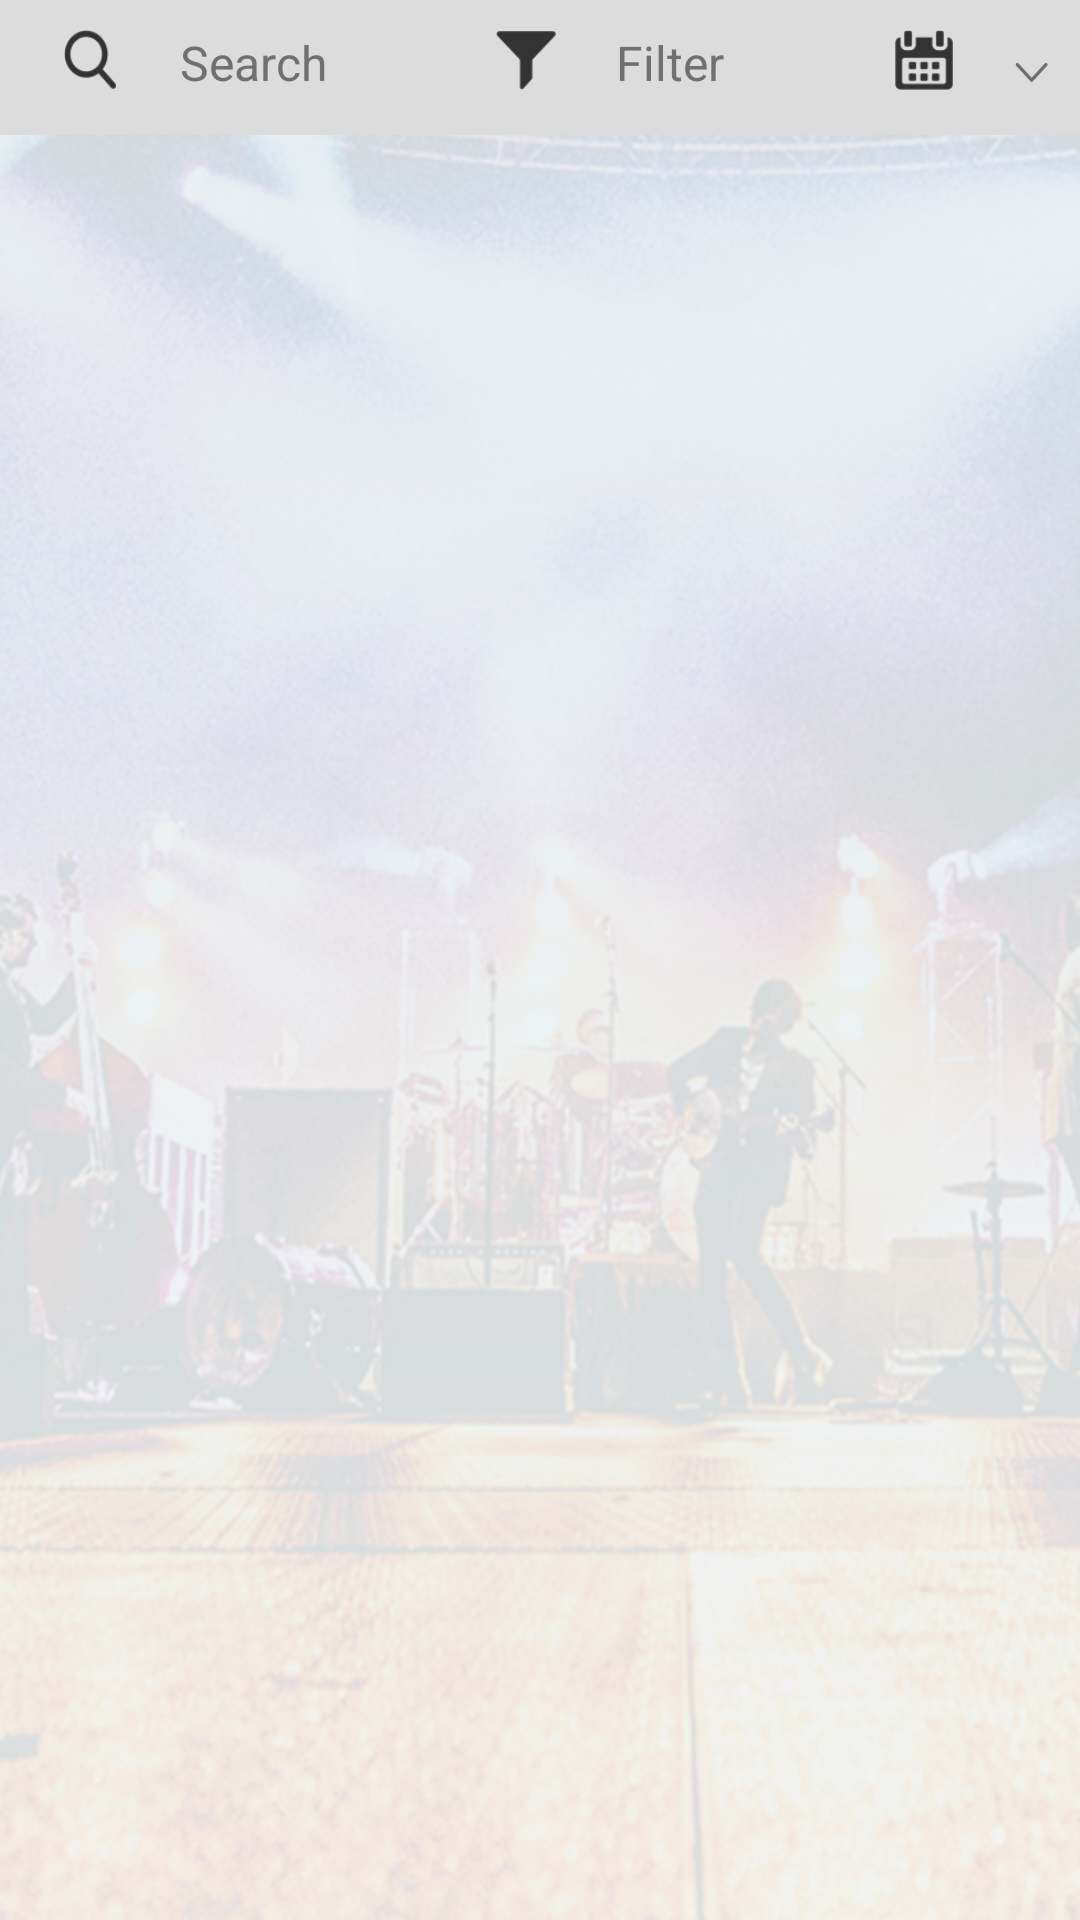

Locate icon controls on the screen. Image size 1080*1920, boxes as rect(x1, y1, x2, y2).
calendar: rect(895, 30, 953, 90)
drop down: rect(1016, 63, 1048, 82)
